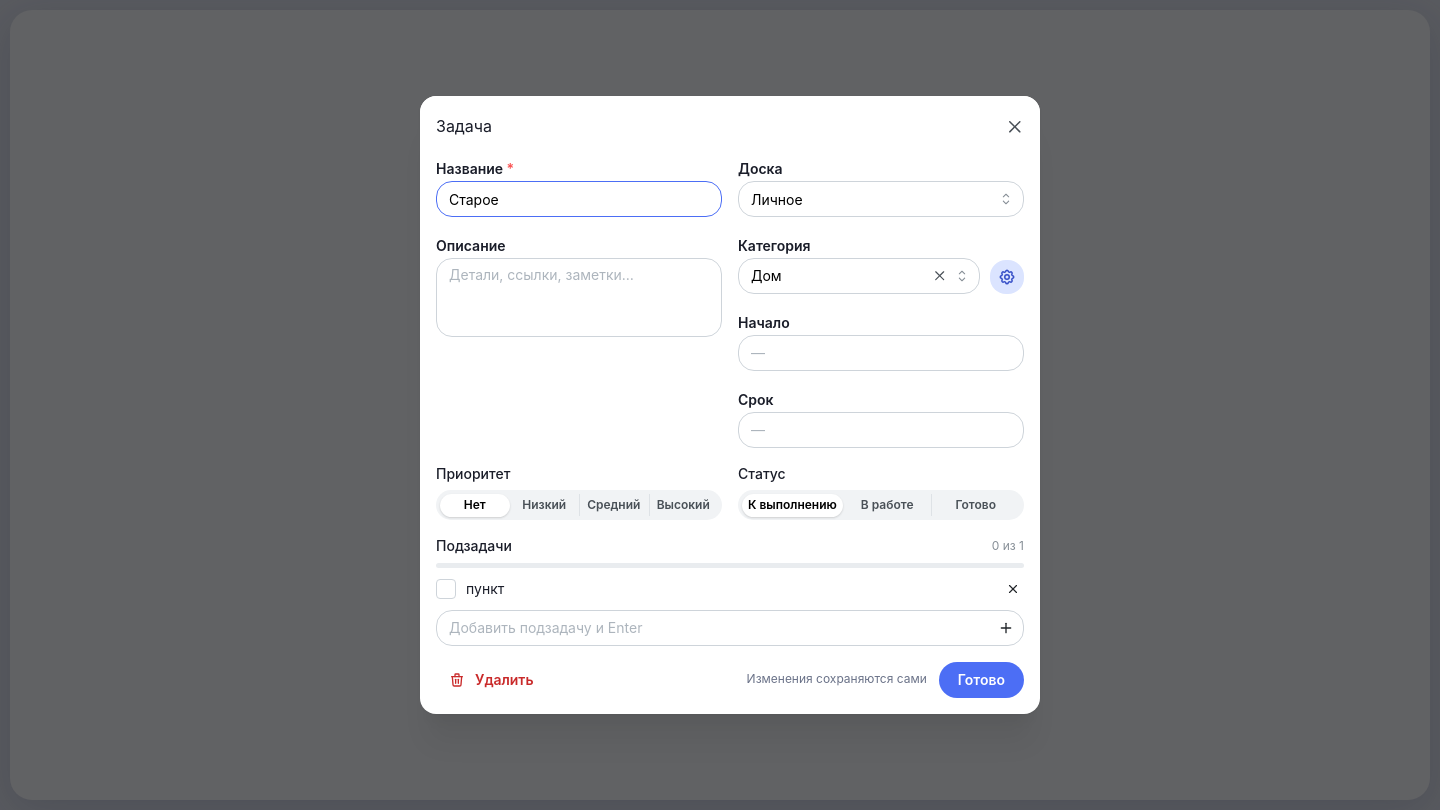
Test case: TaskModal: редактирование › подзадачи: отметить и удалить
Check: the text "пункт" is shown, box top-left (466, 580), bottom-right (504, 596)
Click the checkbox at (446, 589), box top-left (436, 579), bottom-right (456, 599)
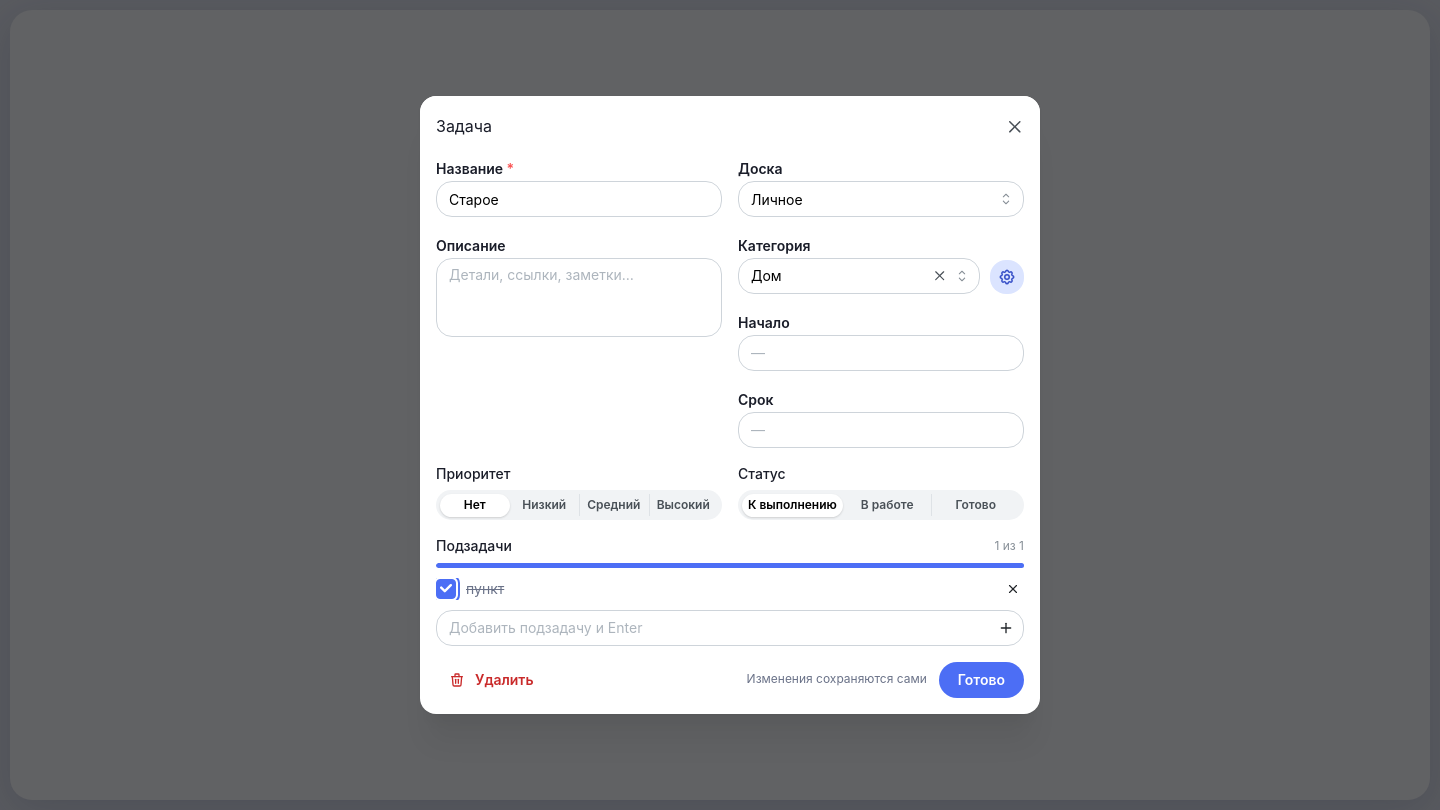
Check: the text "1 из 1" is shown, box top-left (994, 538), bottom-right (1024, 555)
Click the button named "Удалить подзадачу" at (1013, 589), box top-left (1002, 578), bottom-right (1024, 600)
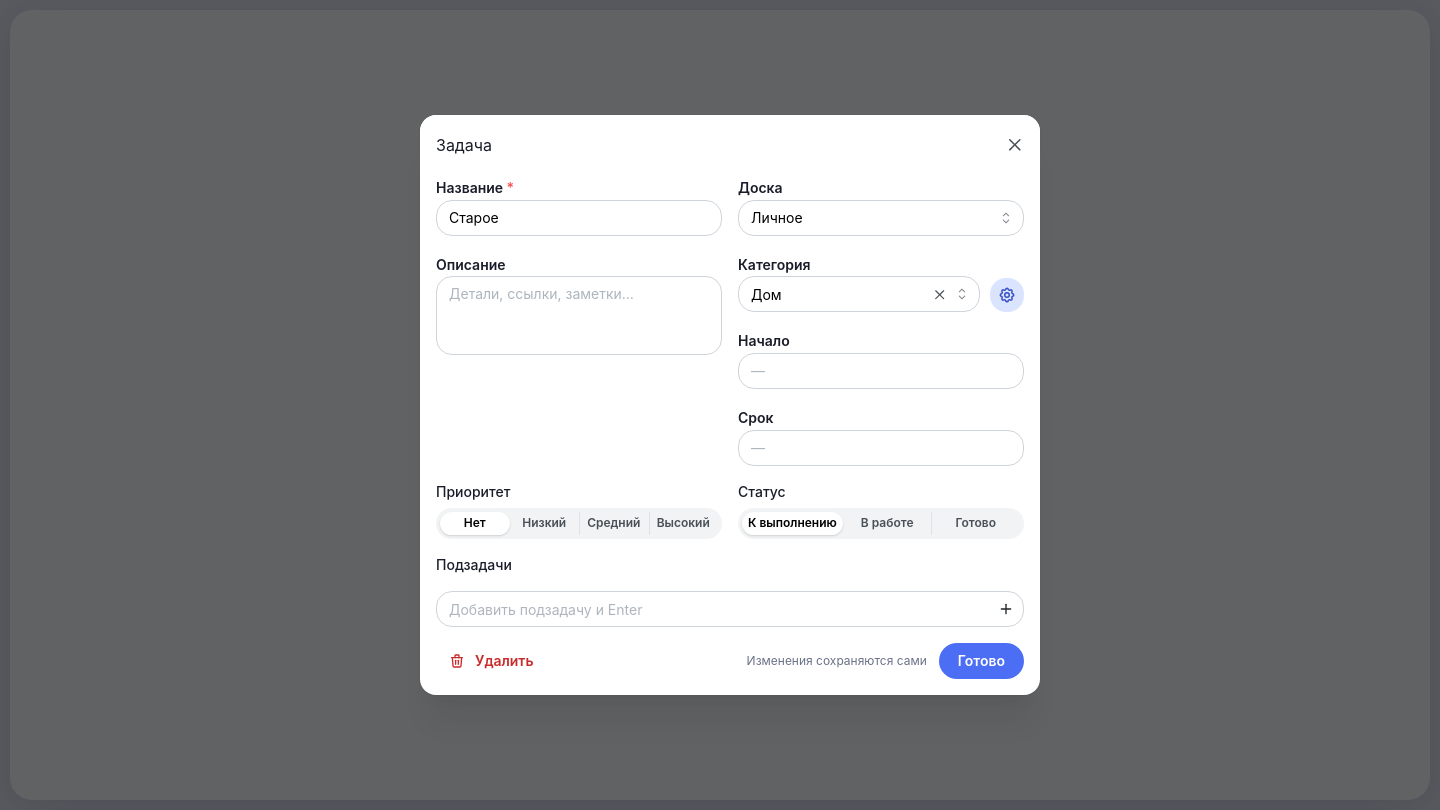
Check: the text "пункт" is gone
